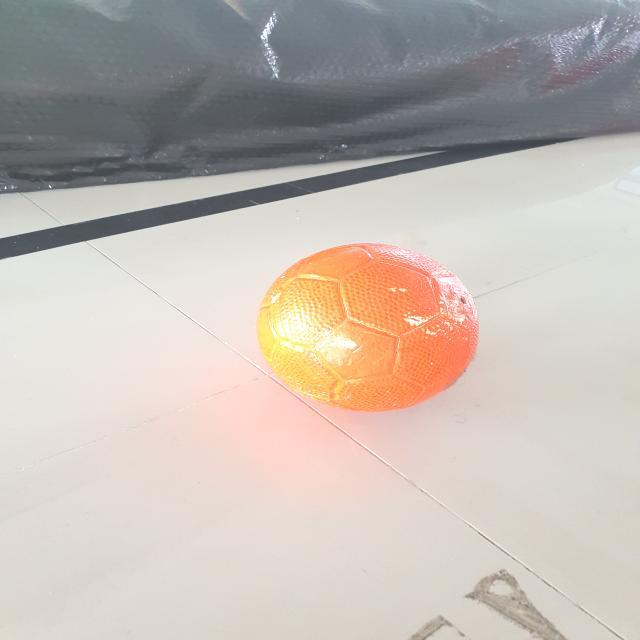bola: (253, 240, 489, 422)
